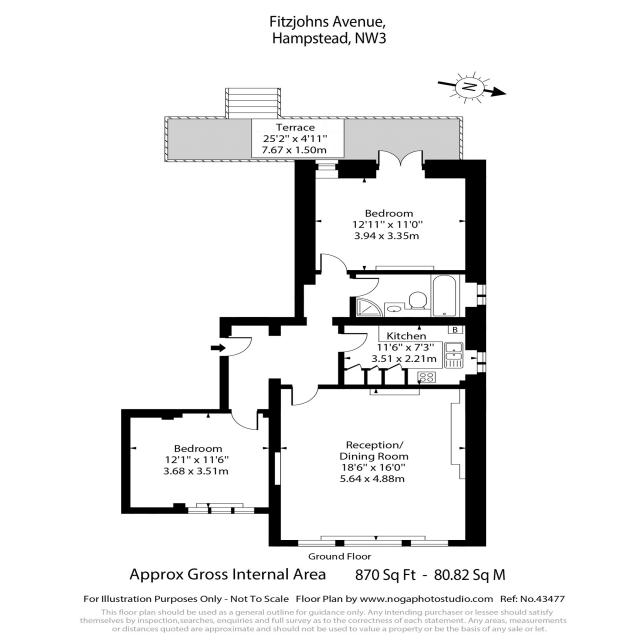DOOR: (287, 384, 323, 409), (219, 335, 256, 357), (338, 331, 370, 354), (318, 252, 350, 274), (230, 409, 261, 431), (350, 277, 382, 298)
DOUBLE DOOR: (378, 148, 426, 170)
ROOM: (269, 372, 487, 547), (295, 148, 486, 285), (122, 409, 281, 514), (333, 306, 487, 389)
WINDOW: (185, 505, 257, 516), (342, 538, 403, 547), (409, 538, 451, 548), (313, 157, 340, 172), (473, 349, 489, 374), (296, 538, 337, 547), (475, 283, 489, 306)
